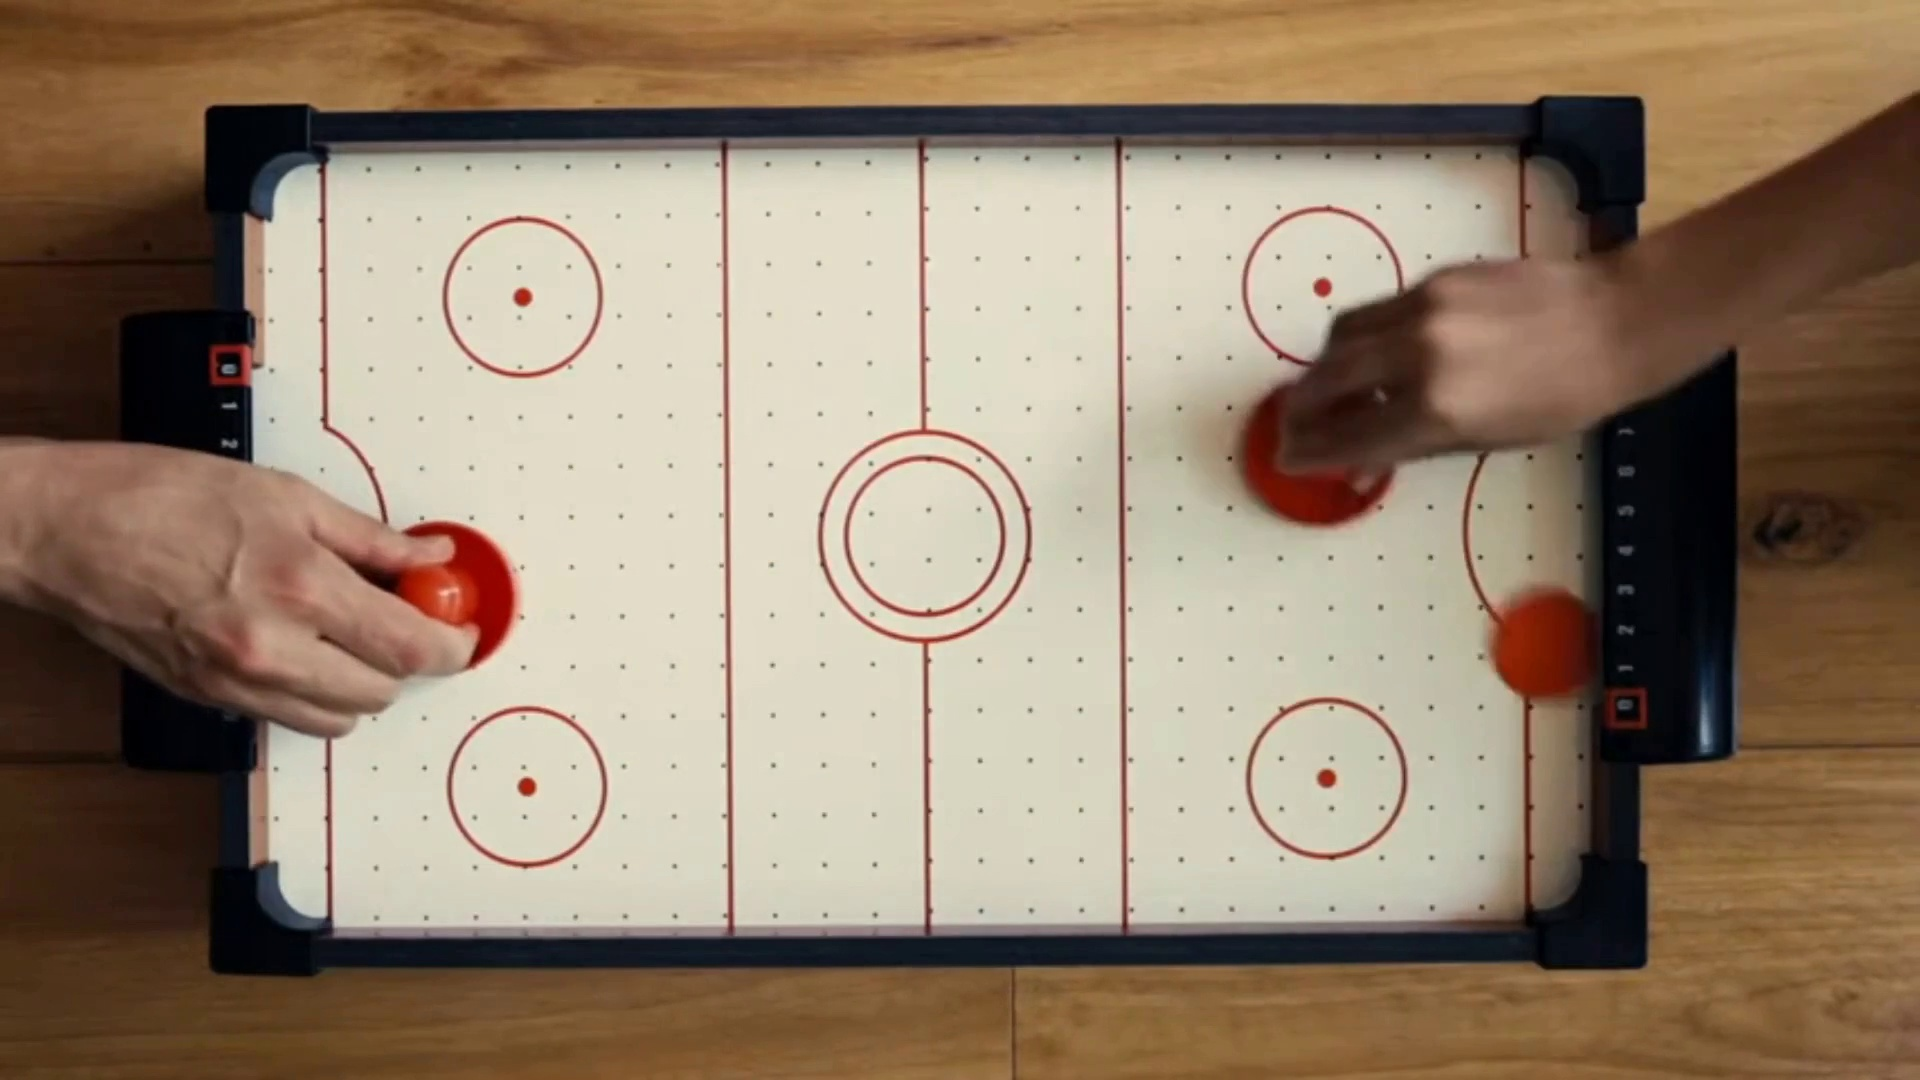player1: (363, 520, 517, 679)
player2: (1242, 380, 1392, 524)
puck: (1492, 588, 1595, 702)
table: (256, 152, 1588, 926)
